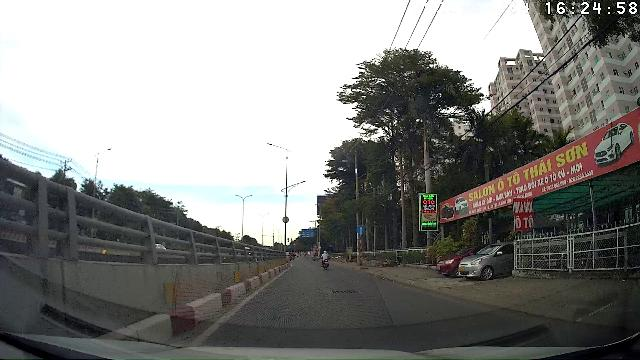301a-cac-xe-chi-duoc-di-thang: (356, 224, 366, 235)
